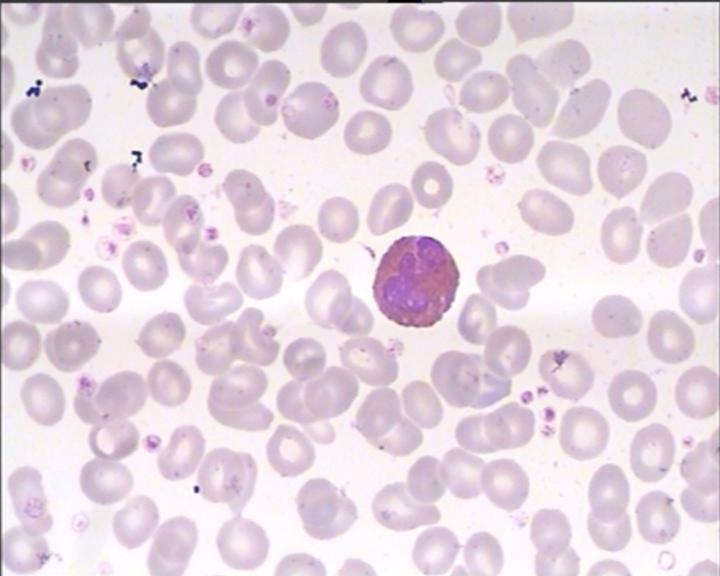eosi: (368, 232, 464, 331)
